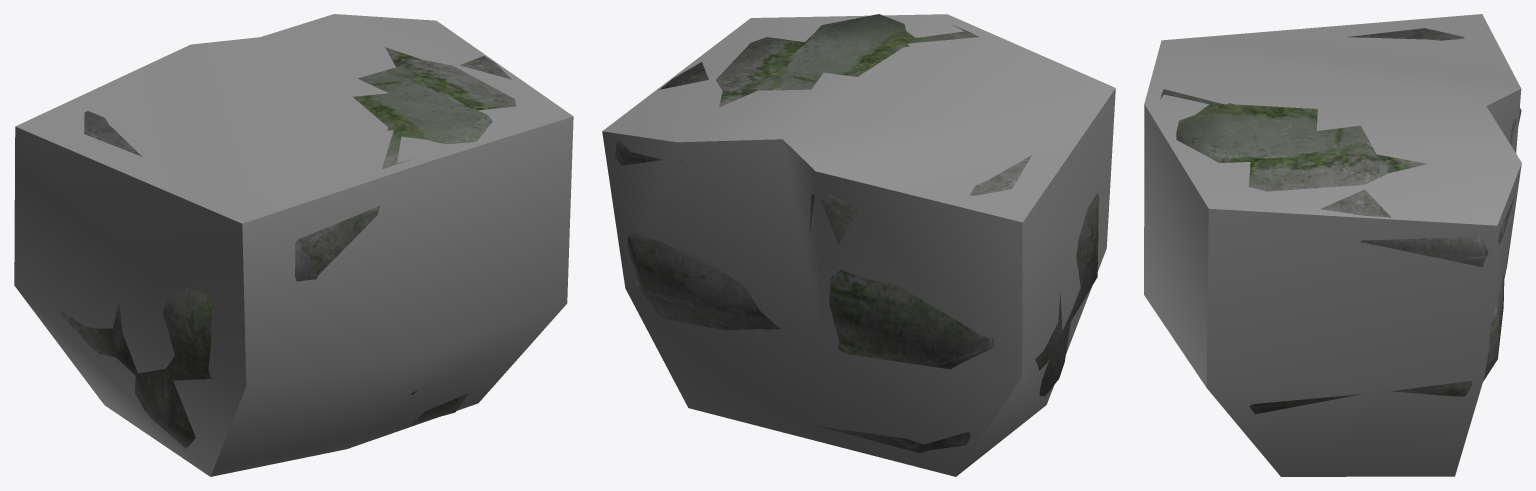
The model's file is Scene_Rock_HeBianShi_3b.FBX.
3 renders of one model, left to right at view 1: azimuth 30°, elevation 25°; view 2: azimuth 150°, elevation 25°; view 3: azimuth 270°, elevation 25°, orthographic. The views are drawn at different scales.
Parts seen in each view (by area): view 1: Scene_Rock_HeBianShi_3b_Xzm, Scene_Rock_HeBianShi_3b; view 2: Scene_Rock_HeBianShi_3b_Xzm, Scene_Rock_HeBianShi_3b; view 3: Scene_Rock_HeBianShi_3b_Xzm, Scene_Rock_HeBianShi_3b.
Boxes of the visible parts, x1,y1,x2,y2 form: Scene_Rock_HeBianShi_3b_Xzm: (14,14,573,476); Scene_Rock_HeBianShi_3b: (53,47,516,448); Scene_Rock_HeBianShi_3b_Xzm: (602,14,1115,476); Scene_Rock_HeBianShi_3b: (614,14,1098,452); Scene_Rock_HeBianShi_3b_Xzm: (1144,14,1521,476); Scene_Rock_HeBianShi_3b: (1160,28,1521,414).
Bounding box in the file's own units: 648 × 465 × 498.
